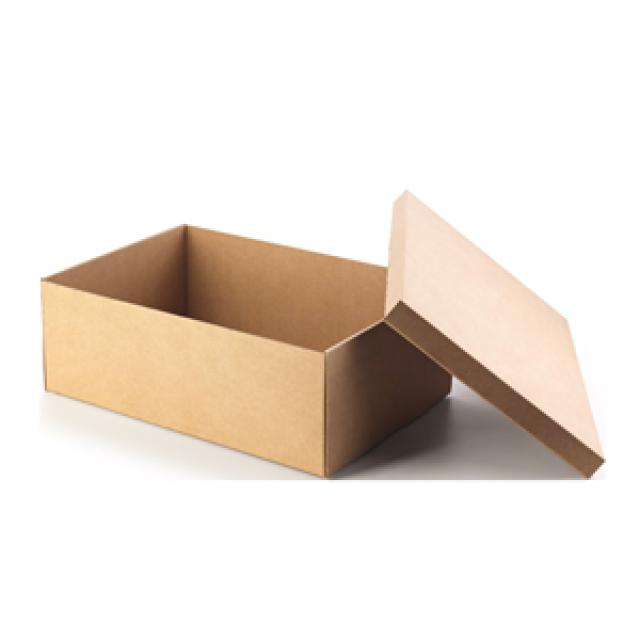Carton: (40, 185, 608, 480)
